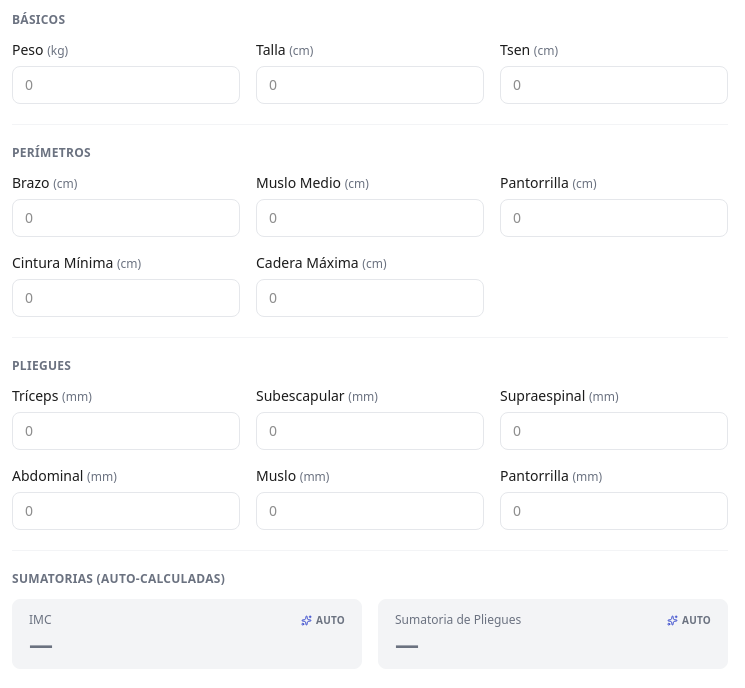
Test case: AntropometriaSection › al escribir pliegues se actualiza la Sumatoria de Pliegues
Step 1. Type "10" into the number field labelled "Tríceps (mm)" → (126, 431), box [12,412,240,450]
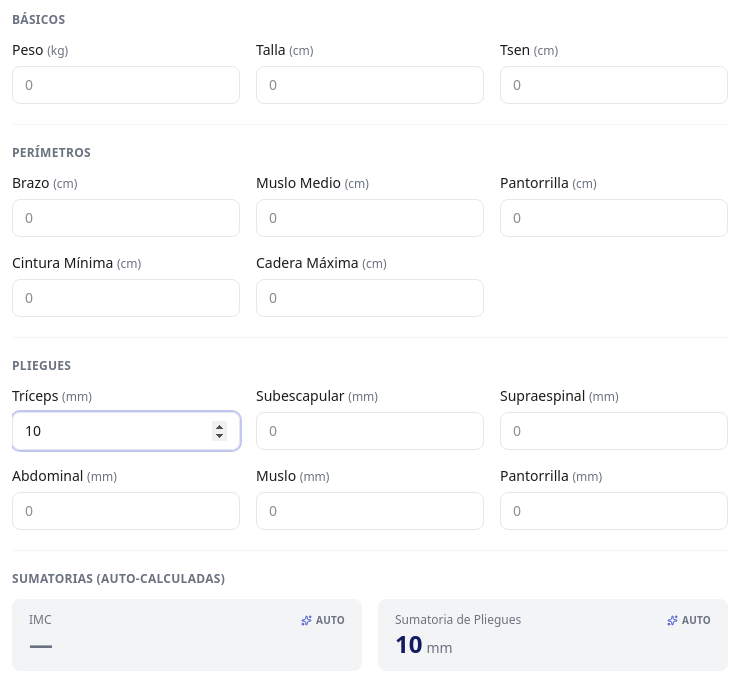
Step 2. Type "5" into the number field labelled "Subescapular (mm)" → (370, 431), box [256,412,484,450]
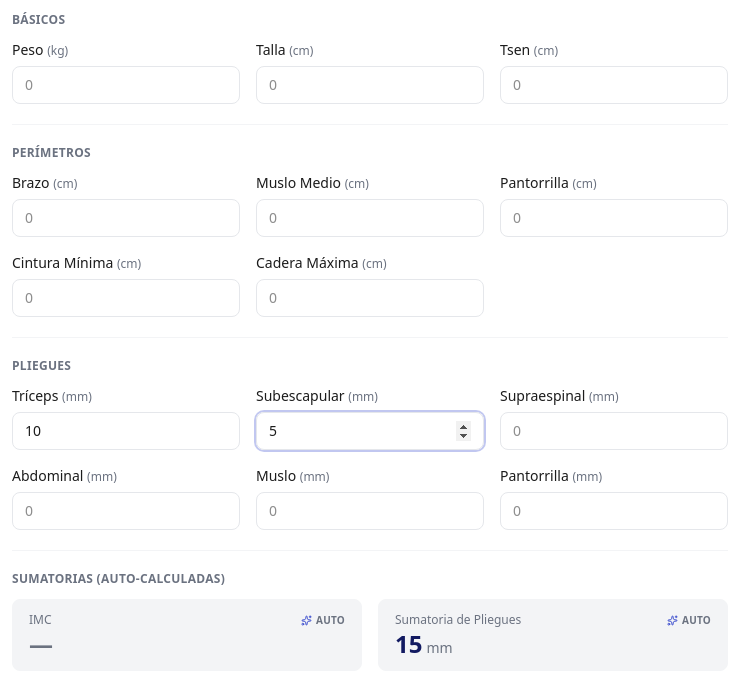
Check: the element showing "15mm" is shown, box [395,627,453,660]
